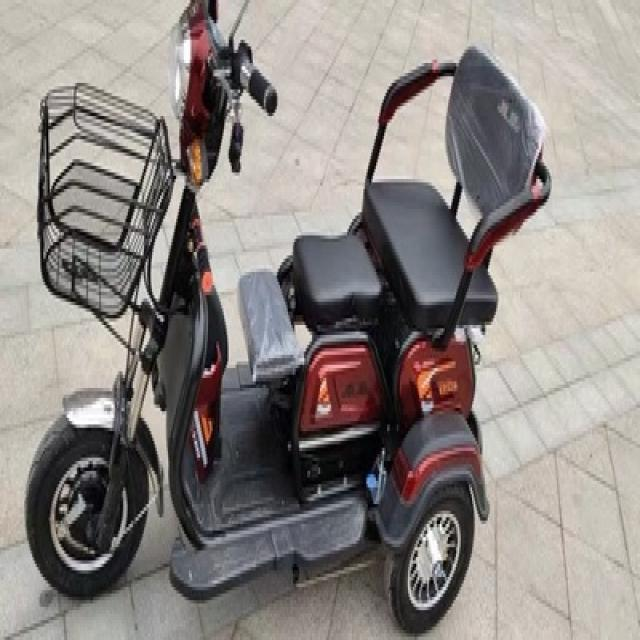tricycle: (21, 0, 549, 637)
